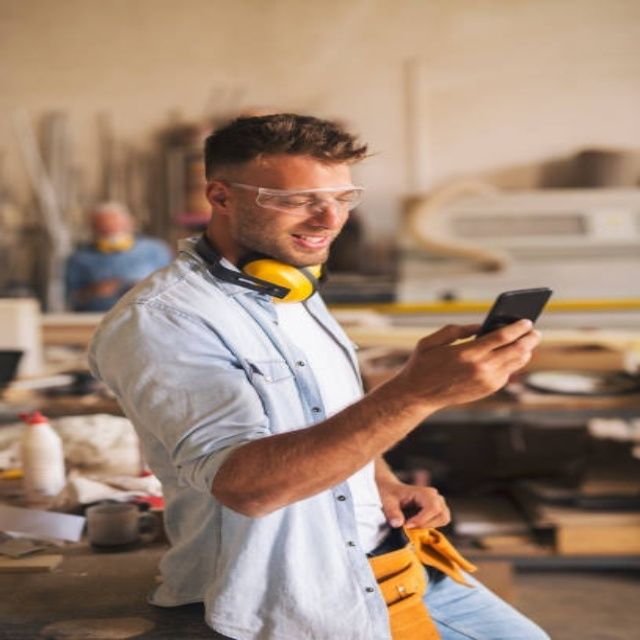Gafas: (220, 180, 366, 214)
Sin_guantes: (403, 313, 554, 409), (381, 480, 453, 534)
Sin_mascara: (281, 230, 336, 259)
